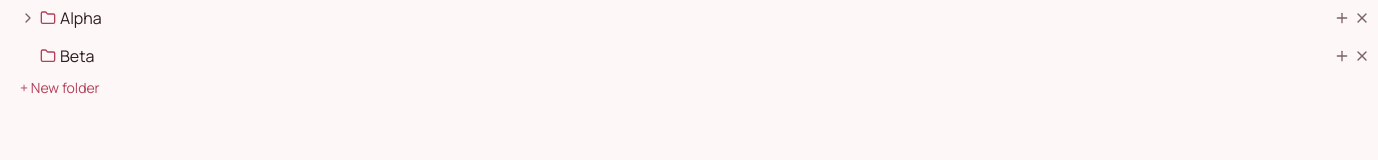
Test: FolderTree › create folder › shows root-level name input after clicking New folder
Click the button "+ New folder". click: click(60, 88)
box: [12, 78, 108, 98]
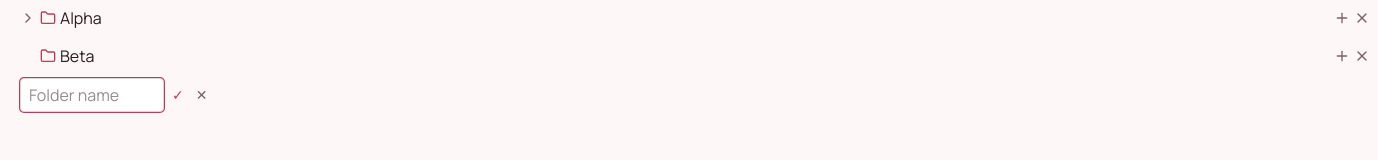
Now the field with placeholder "Folder name" is shown, box [20, 78, 164, 112]
